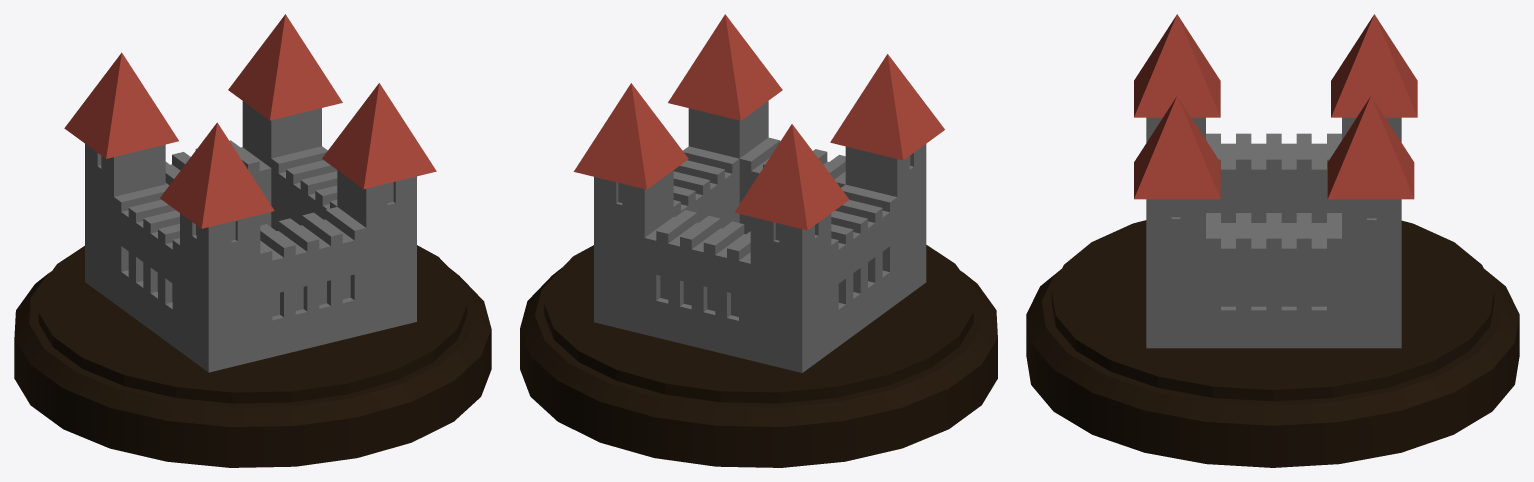
File: Ville.fbx
3 views of the same model, side by side, from view 1: azimuth 30°, elevation 25°; view 2: azimuth 150°, elevation 25°; view 3: azimuth 270°, elevation 25° (orthographic). The views are drawn at different scales.
Parts seen in each view (by area): view 1: Ville; view 2: Ville; view 3: Ville.
Part boxes in pixels (box(x1,y1,x2,y2)): Ville: box(14, 14, 491, 467); Ville: box(520, 14, 997, 467); Ville: box(1026, 14, 1519, 467).
Size of the model in its own units: 1.63 by 1.13 by 1.63.
